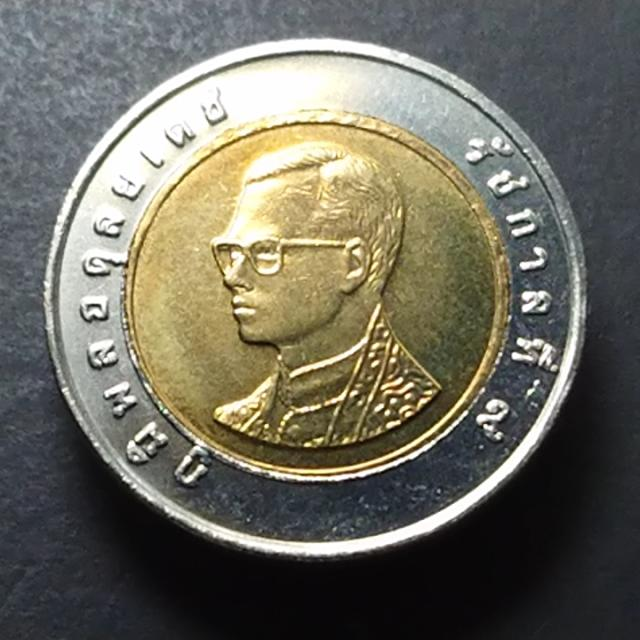10 Bath: (43, 39, 595, 576)
